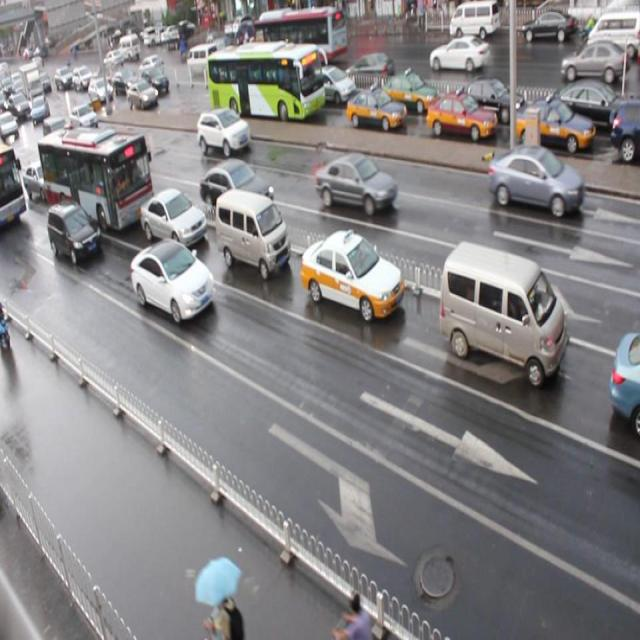car: (300, 229, 403, 321), (489, 143, 584, 223), (131, 238, 215, 325), (315, 152, 397, 220), (200, 158, 276, 222), (514, 101, 594, 160), (140, 188, 208, 252), (546, 82, 625, 134), (426, 92, 497, 145), (48, 198, 101, 264), (608, 329, 640, 432), (456, 79, 523, 125), (345, 88, 406, 134), (197, 109, 252, 160), (378, 72, 438, 114), (308, 64, 357, 104), (610, 99, 640, 161), (22, 160, 61, 204), (127, 81, 160, 111), (72, 106, 102, 135), (142, 67, 170, 95), (113, 67, 138, 93)
truck: (438, 240, 568, 389), (215, 188, 290, 284)
van: (38, 127, 154, 235), (206, 43, 324, 125), (1, 143, 28, 230)
